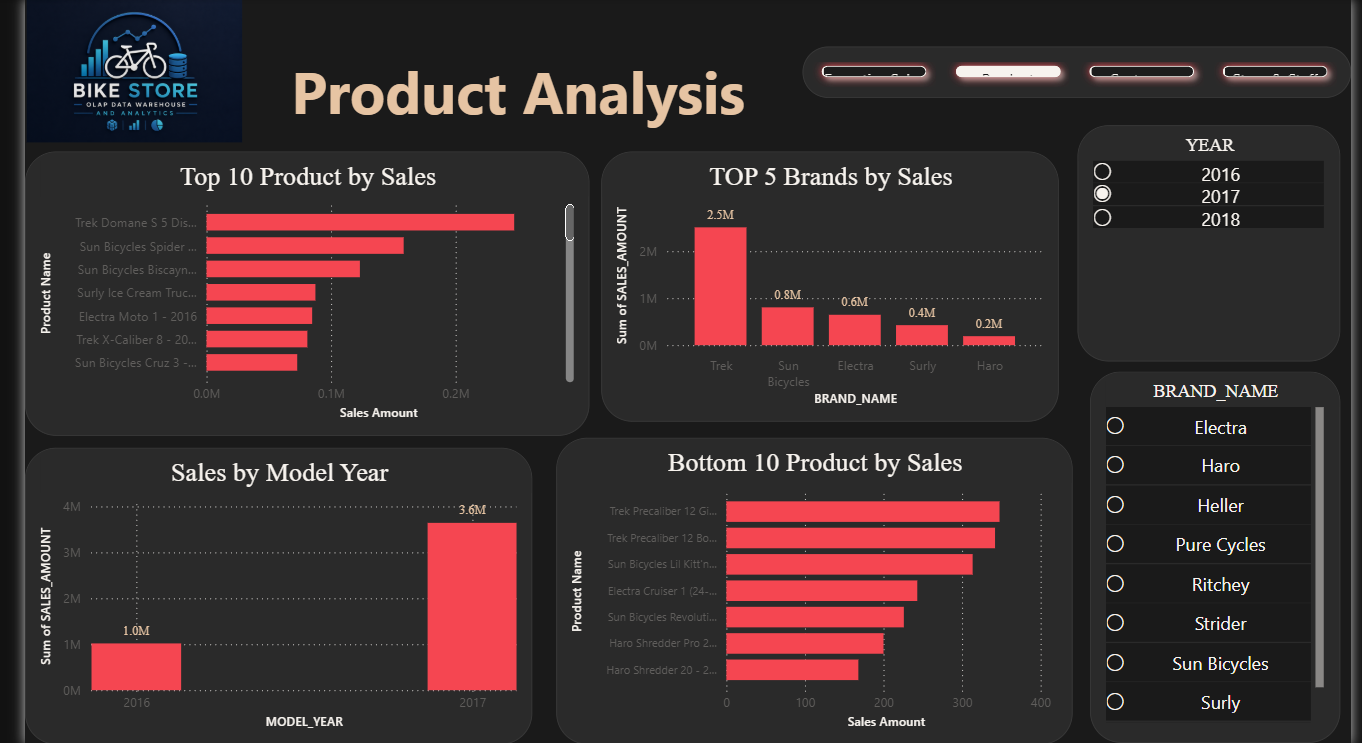

Layout of this report page (visuals, bound fields, positions):
{"tool":"powerbi","page":{"name":"Product ","canvas":[1280,720],"ordinal":1},"visuals":[{"type":"image","box":[0,0,211.3,138.6],"z":0},{"type":"clusteredBarChart","title":"Top 10 Product by Sales","fields":{"Category":["dim_products.PRODUCT_NAME"],"Y":["Sum(fact_sales.SALES_AMOUNT)"]},"box":[0,146.8,544.8,274.4],"z":1000},{"type":"clusteredColumnChart","title":"TOP 5 Brands by Sales ","fields":{"Category":["dim_products.BRAND_NAME"],"Y":["Sum(fact_sales.SALES_AMOUNT)"]},"box":[555.7,146.8,441.9,260.7],"z":2000},{"type":"listSlicer","fields":{"Values":["dim_date.YEAR"]},"box":[1015.4,122.1,253.9,227.8],"z":3000},{"type":"textbox","box":[211.3,45.3,529.7,91.9],"z":4000},{"type":"barChart","title":"Bottom 10 Product by Sales","fields":{"Category":["dim_products.PRODUCT_NAME"],"Y":["Sum(fact_sales.SALES_AMOUNT)"]},"box":[513.2,424,498.1,296.4],"z":5000},{"type":"columnChart","title":"Sales by Model Year","fields":{"Category":["dim_products.MODEL_YEAR"],"Y":["Sum(fact_sales.SALES_AMOUNT)"]},"box":[0,433.6,489.9,286.8],"z":6000},{"type":"listSlicer","fields":{"Values":["dim_products.BRAND_NAME"]},"box":[1027.8,359.5,241.5,358.1],"z":7000},{"type":"pageNavigator","box":[750.6,45.3,529.7,49.4],"z":8000}]}

Visuals, with their boxes on the page's 1280x720 design canvas (x1, y1, x2, y2). These are canvas units, not pixel positions in the 1362x743 screenshot, which may show the page scaled, cropped or inside an application window:
image: Rect(0, 0, 211, 139)
"Top 10 Product by Sales" clusteredBarChart: Rect(0, 147, 545, 421)
"TOP 5 Brands by Sales " clusteredColumnChart: Rect(556, 147, 998, 408)
listSlicer - dim_date.YEAR: Rect(1015, 122, 1269, 350)
textbox: Rect(211, 45, 741, 137)
"Bottom 10 Product by Sales" barChart: Rect(513, 424, 1011, 720)
"Sales by Model Year" columnChart: Rect(0, 434, 490, 720)
listSlicer - dim_products.BRAND_NAME: Rect(1028, 360, 1269, 718)
pageNavigator: Rect(751, 45, 1280, 95)
